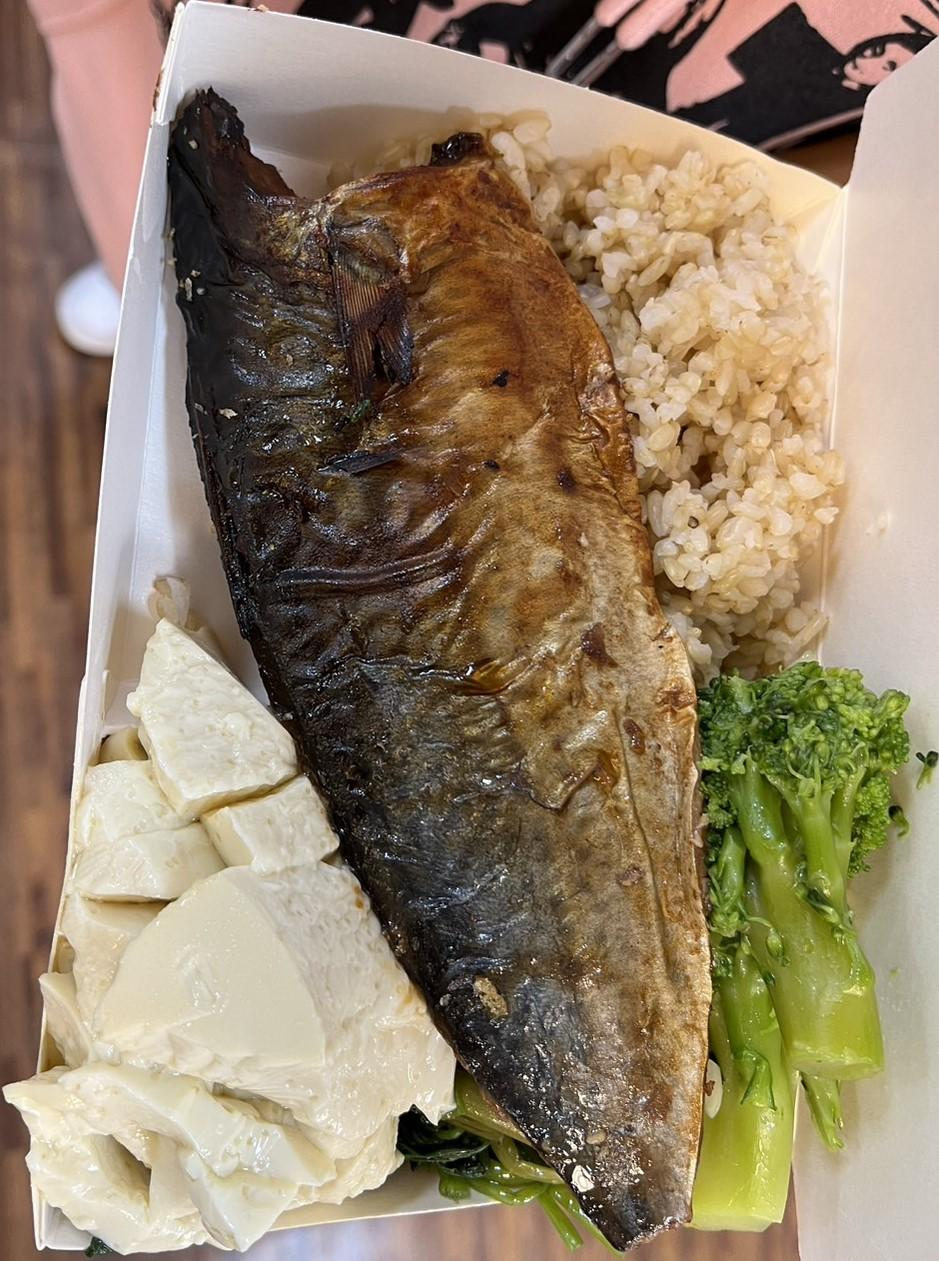big grilled chicken leg: (23, 0, 861, 1261)
box: (505, 133, 839, 642)
braised fish fillet: (36, 623, 449, 1254), (679, 653, 913, 1222), (408, 1083, 549, 1208)
braised pork ribs: (155, 83, 723, 1242)
